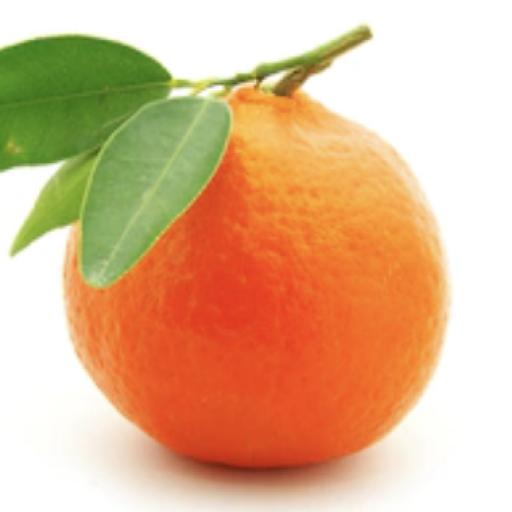orange: (65, 88, 448, 467)
